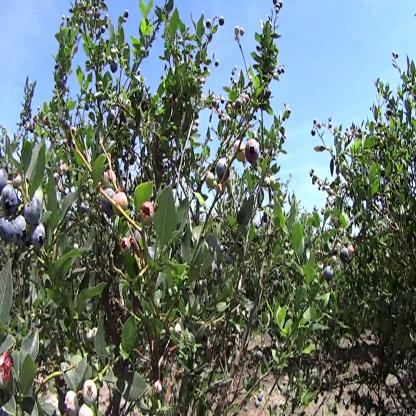intermediate: (141, 200, 156, 227), (102, 167, 118, 192), (115, 190, 130, 213), (350, 248, 356, 258)
mature: (2, 184, 20, 220), (26, 200, 43, 230), (13, 210, 27, 246), (1, 213, 14, 251), (31, 223, 46, 253), (247, 137, 262, 165), (99, 188, 115, 213), (216, 159, 231, 185), (1, 169, 9, 197), (339, 246, 349, 266)
young: (62, 387, 81, 416), (82, 379, 99, 408), (233, 139, 248, 167), (174, 318, 185, 343), (77, 405, 97, 416), (206, 170, 217, 189), (264, 175, 277, 189)
